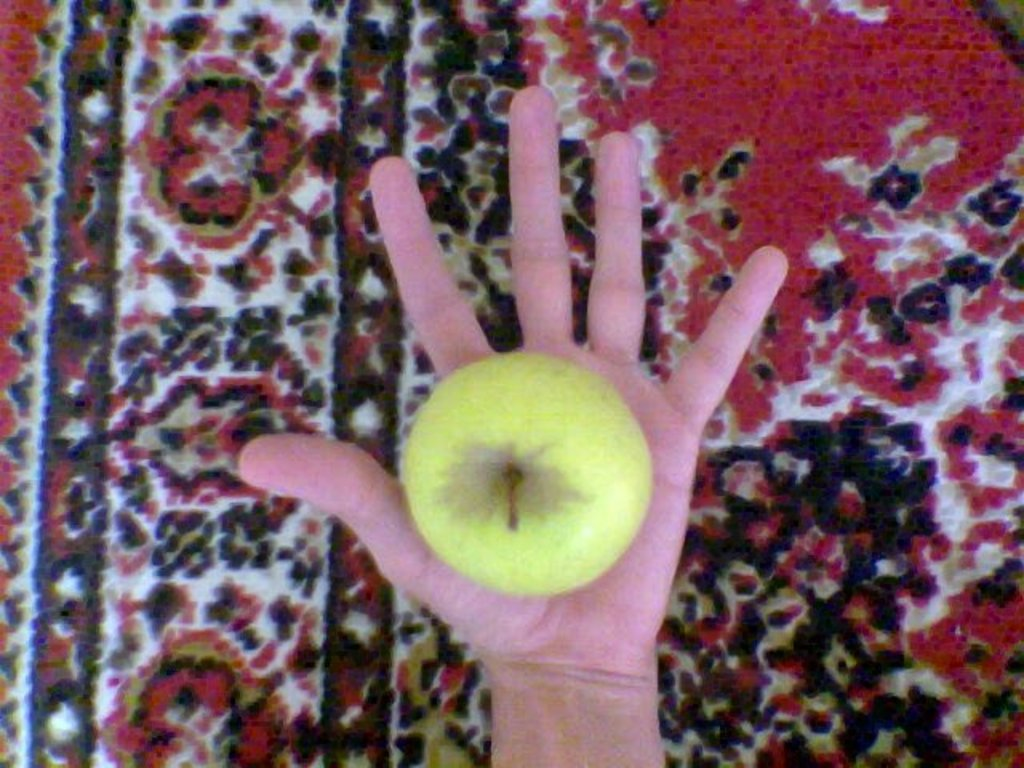Apple: (401, 350, 659, 603)
